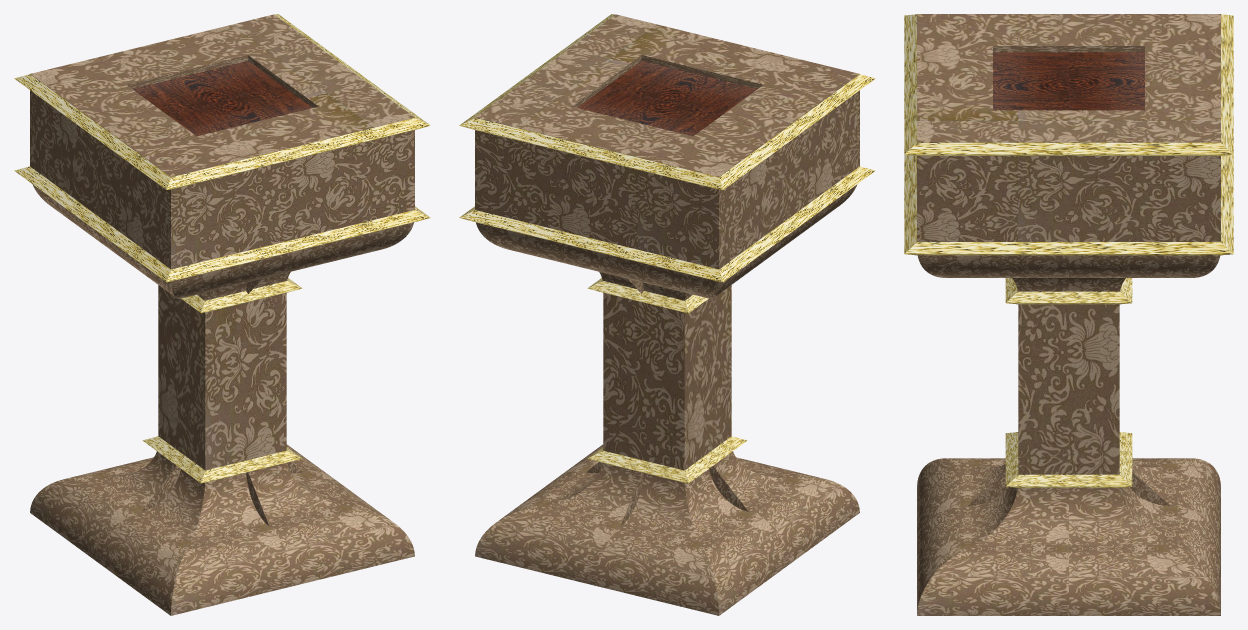
The model's file is woodenTable.fbx.
3 views of the same model, side by side, from view 1: azimuth 30°, elevation 25°; view 2: azimuth 150°, elevation 25°; view 3: azimuth 270°, elevation 25° (orthographic). The views are drawn at different scales.
Visible parts, largest first — view 1: Cube.003, Cube.002, Cube.004, Cube, Cube.001, Cylinder.003, Cylinder, leftDoor, rightDoor, Cylinder.002, Cylinder.001; view 2: Cube.003, Cube.002, Cube.004, Cube, Cube.001, Cylinder.003, Cylinder, rightDoor, leftDoor, Cylinder.002, Cylinder.001; view 3: Cube.003, Cube.004, Cube.002, Cube, Cube.001, Cylinder.003, Cylinder, leftDoor, rightDoor, Cylinder.002, Cylinder.001.
Boxes of the visible parts, x1=… form: Cube.003: x1=30, y1=444, x2=414, y2=615; Cube.002: x1=30, y1=60, x2=414, y2=269; Cube.004: x1=30, y1=14, x2=414, y2=176; Cube: x1=158, y1=285, x2=286, y2=470; Cube.001: x1=32, y1=184, x2=413, y2=300; Cylinder.003: x1=14, y1=14, x2=430, y2=189; Cylinder: x1=14, y1=166, x2=430, y2=282; leftDoor: x1=132, y1=61, x2=282, y2=114; rightDoor: x1=167, y1=86, x2=312, y2=136; Cylinder.002: x1=142, y1=436, x2=301, y2=483; Cylinder.001: x1=181, y1=278, x2=302, y2=313; Cube.003: x1=475, y1=444, x2=859, y2=615; Cube.002: x1=475, y1=60, x2=859, y2=269; Cube.004: x1=475, y1=14, x2=859, y2=176; Cube: x1=603, y1=285, x2=731, y2=470; Cube.001: x1=476, y1=184, x2=857, y2=300; Cylinder.003: x1=459, y1=14, x2=875, y2=189; Cylinder: x1=459, y1=166, x2=875, y2=282; rightDoor: x1=607, y1=61, x2=757, y2=114; leftDoor: x1=577, y1=86, x2=722, y2=136; Cylinder.002: x1=588, y1=436, x2=747, y2=483; Cylinder.001: x1=587, y1=278, x2=708, y2=313; Cube.003: x1=917, y1=458, x2=1220, y2=615; Cube.004: x1=917, y1=14, x2=1220, y2=142; Cube.002: x1=917, y1=51, x2=1220, y2=241; Cube: x1=1018, y1=304, x2=1119, y2=474; Cube.001: x1=917, y1=255, x2=1220, y2=291; Cylinder.003: x1=904, y1=14, x2=1233, y2=155; Cylinder: x1=904, y1=154, x2=1233, y2=255; leftDoor: x1=1069, y1=52, x2=1144, y2=110; rightDoor: x1=993, y1=52, x2=1068, y2=110; Cylinder.002: x1=1005, y1=432, x2=1132, y2=487; Cylinder.001: x1=1005, y1=278, x2=1132, y2=304.
Size of the model in its own units: 1950 by 3095 by 1950.
Materials: 4 (4 with a texture image).
